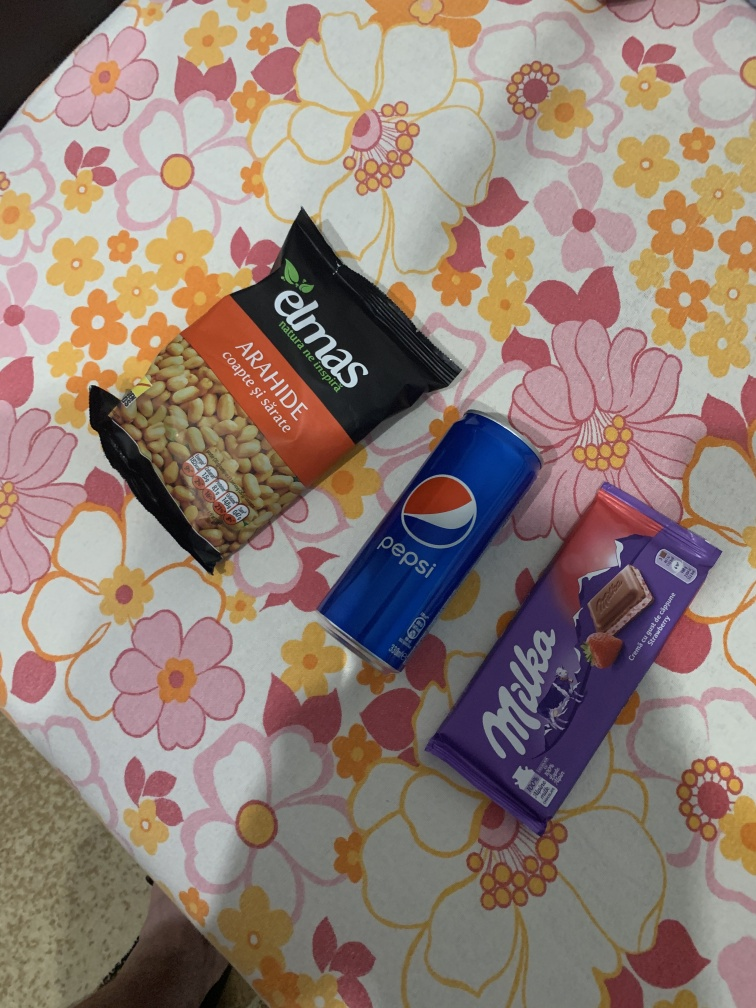milka: (425, 476, 718, 827)
peanuts: (81, 203, 468, 603)
pepsi: (318, 400, 546, 688)
